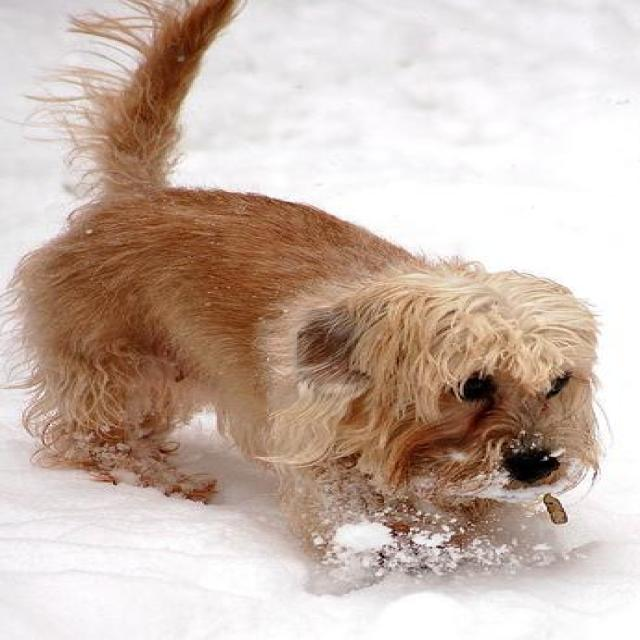dandie_dinmont: (6, 0, 596, 586)
